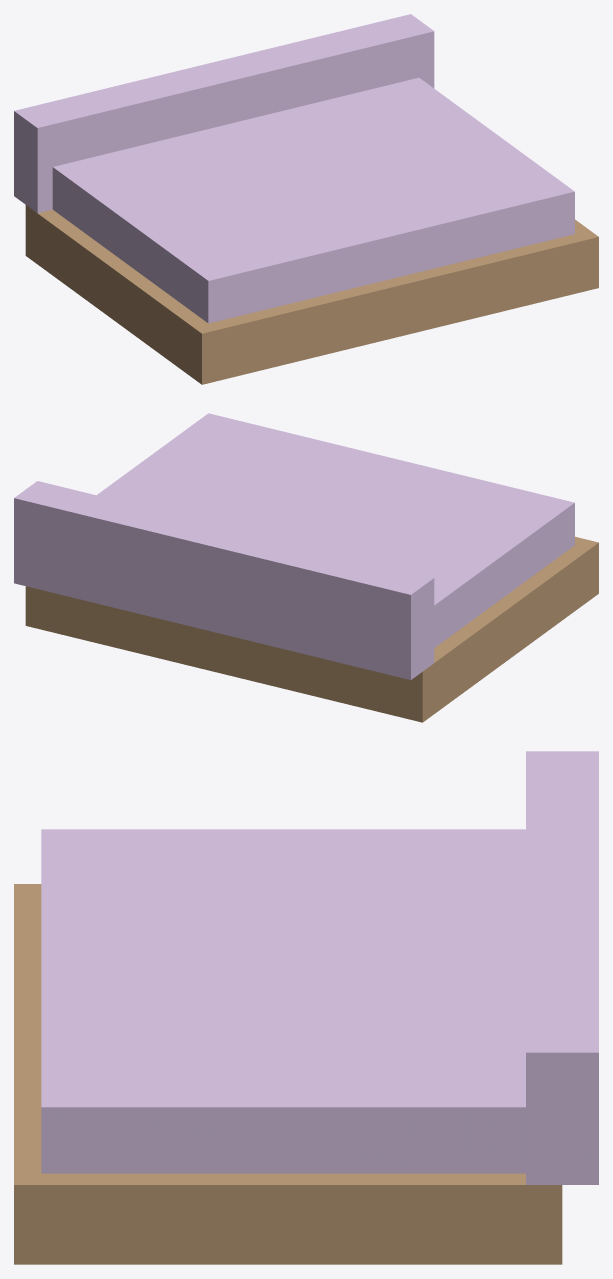
File: Prop_Pet_AMF_Bed_V4.glb
The picture shows the model from 3 angles, top to bottom: view 1: azimuth 30°, elevation 25°; view 2: azimuth 150°, elevation 25°; view 3: azimuth 270°, elevation 25°; orthographic projection. The views are drawn at different scales.
Parts seen in each view (by area): view 1: Prop_Pet_AMF_Bed_V4; view 2: Prop_Pet_AMF_Bed_V4; view 3: Prop_Pet_AMF_Bed_V4.
Boxes of the visible parts, left/top/right/bottom form: Prop_Pet_AMF_Bed_V4: left=14, top=14, right=598, bottom=384; Prop_Pet_AMF_Bed_V4: left=14, top=413, right=598, bottom=722; Prop_Pet_AMF_Bed_V4: left=14, top=751, right=598, bottom=1264.
Bounding box in the file's own units: 0.975 × 0.32 × 0.8.
